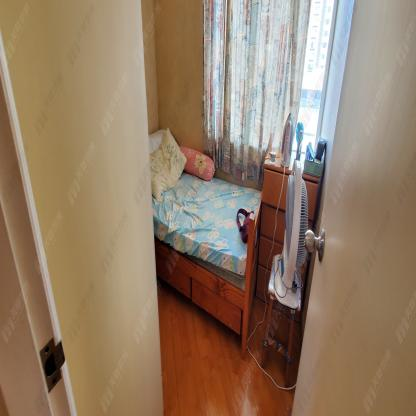Bed: (148, 127, 263, 358)
Door: (291, 0, 416, 416)
